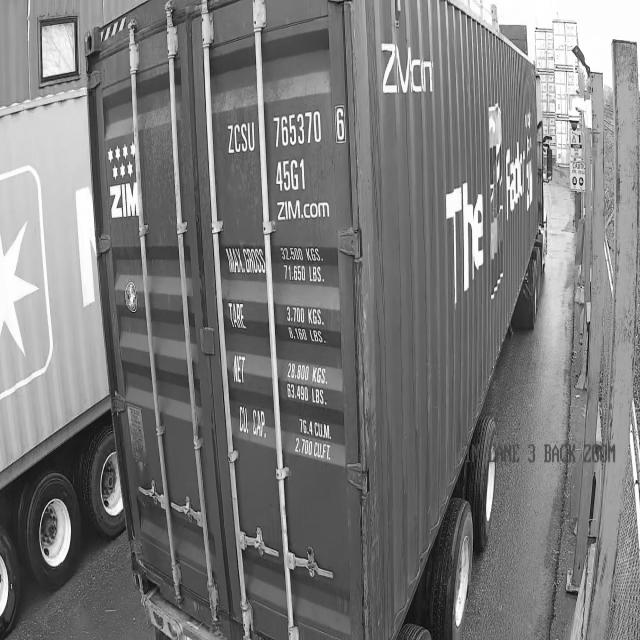container_company_logo: (105, 180, 148, 218)
container_number: (217, 105, 351, 194)
other_container_info: (231, 243, 346, 457)
truck_with_container: (92, 0, 548, 639), (0, 87, 130, 638)
